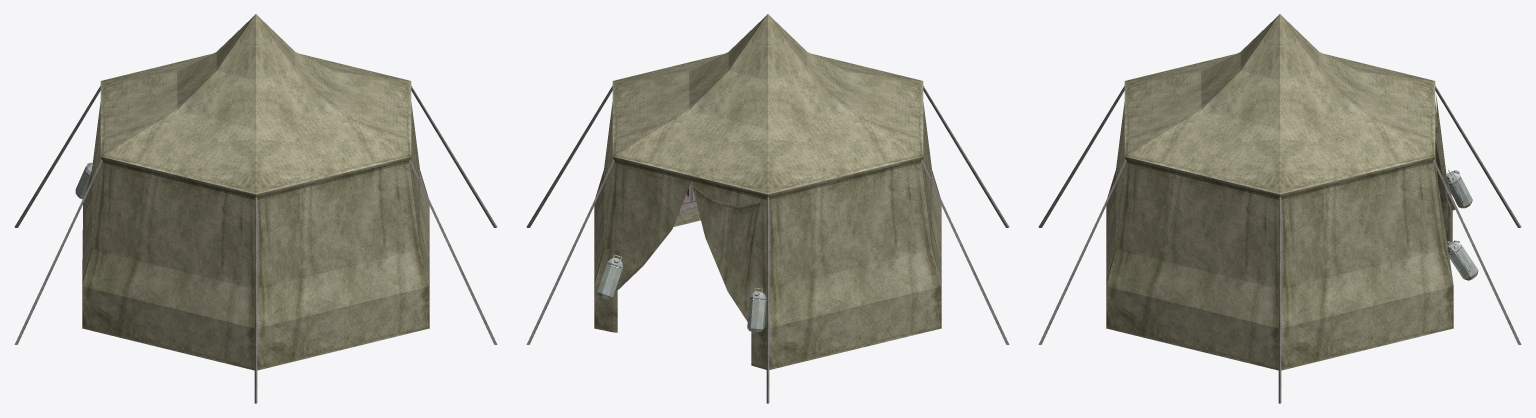
The model's file is poi_corl_tent_hut_s01_l0.fbx.
3 views of the same model, side by side, from view 1: azimuth 30°, elevation 25°; view 2: azimuth 150°, elevation 25°; view 3: azimuth 270°, elevation 25° (orthographic).
Parts seen in each view (by area): view 1: mesh_node; view 2: mesh_node; view 3: mesh_node.
Boxes of the visible parts, x1,y1,x2,y2 form: mesh_node: (14, 14, 497, 403); mesh_node: (526, 14, 1009, 403); mesh_node: (1038, 14, 1521, 403).
Size of the model in its own units: 11.99 by 6.45 by 10.38.
